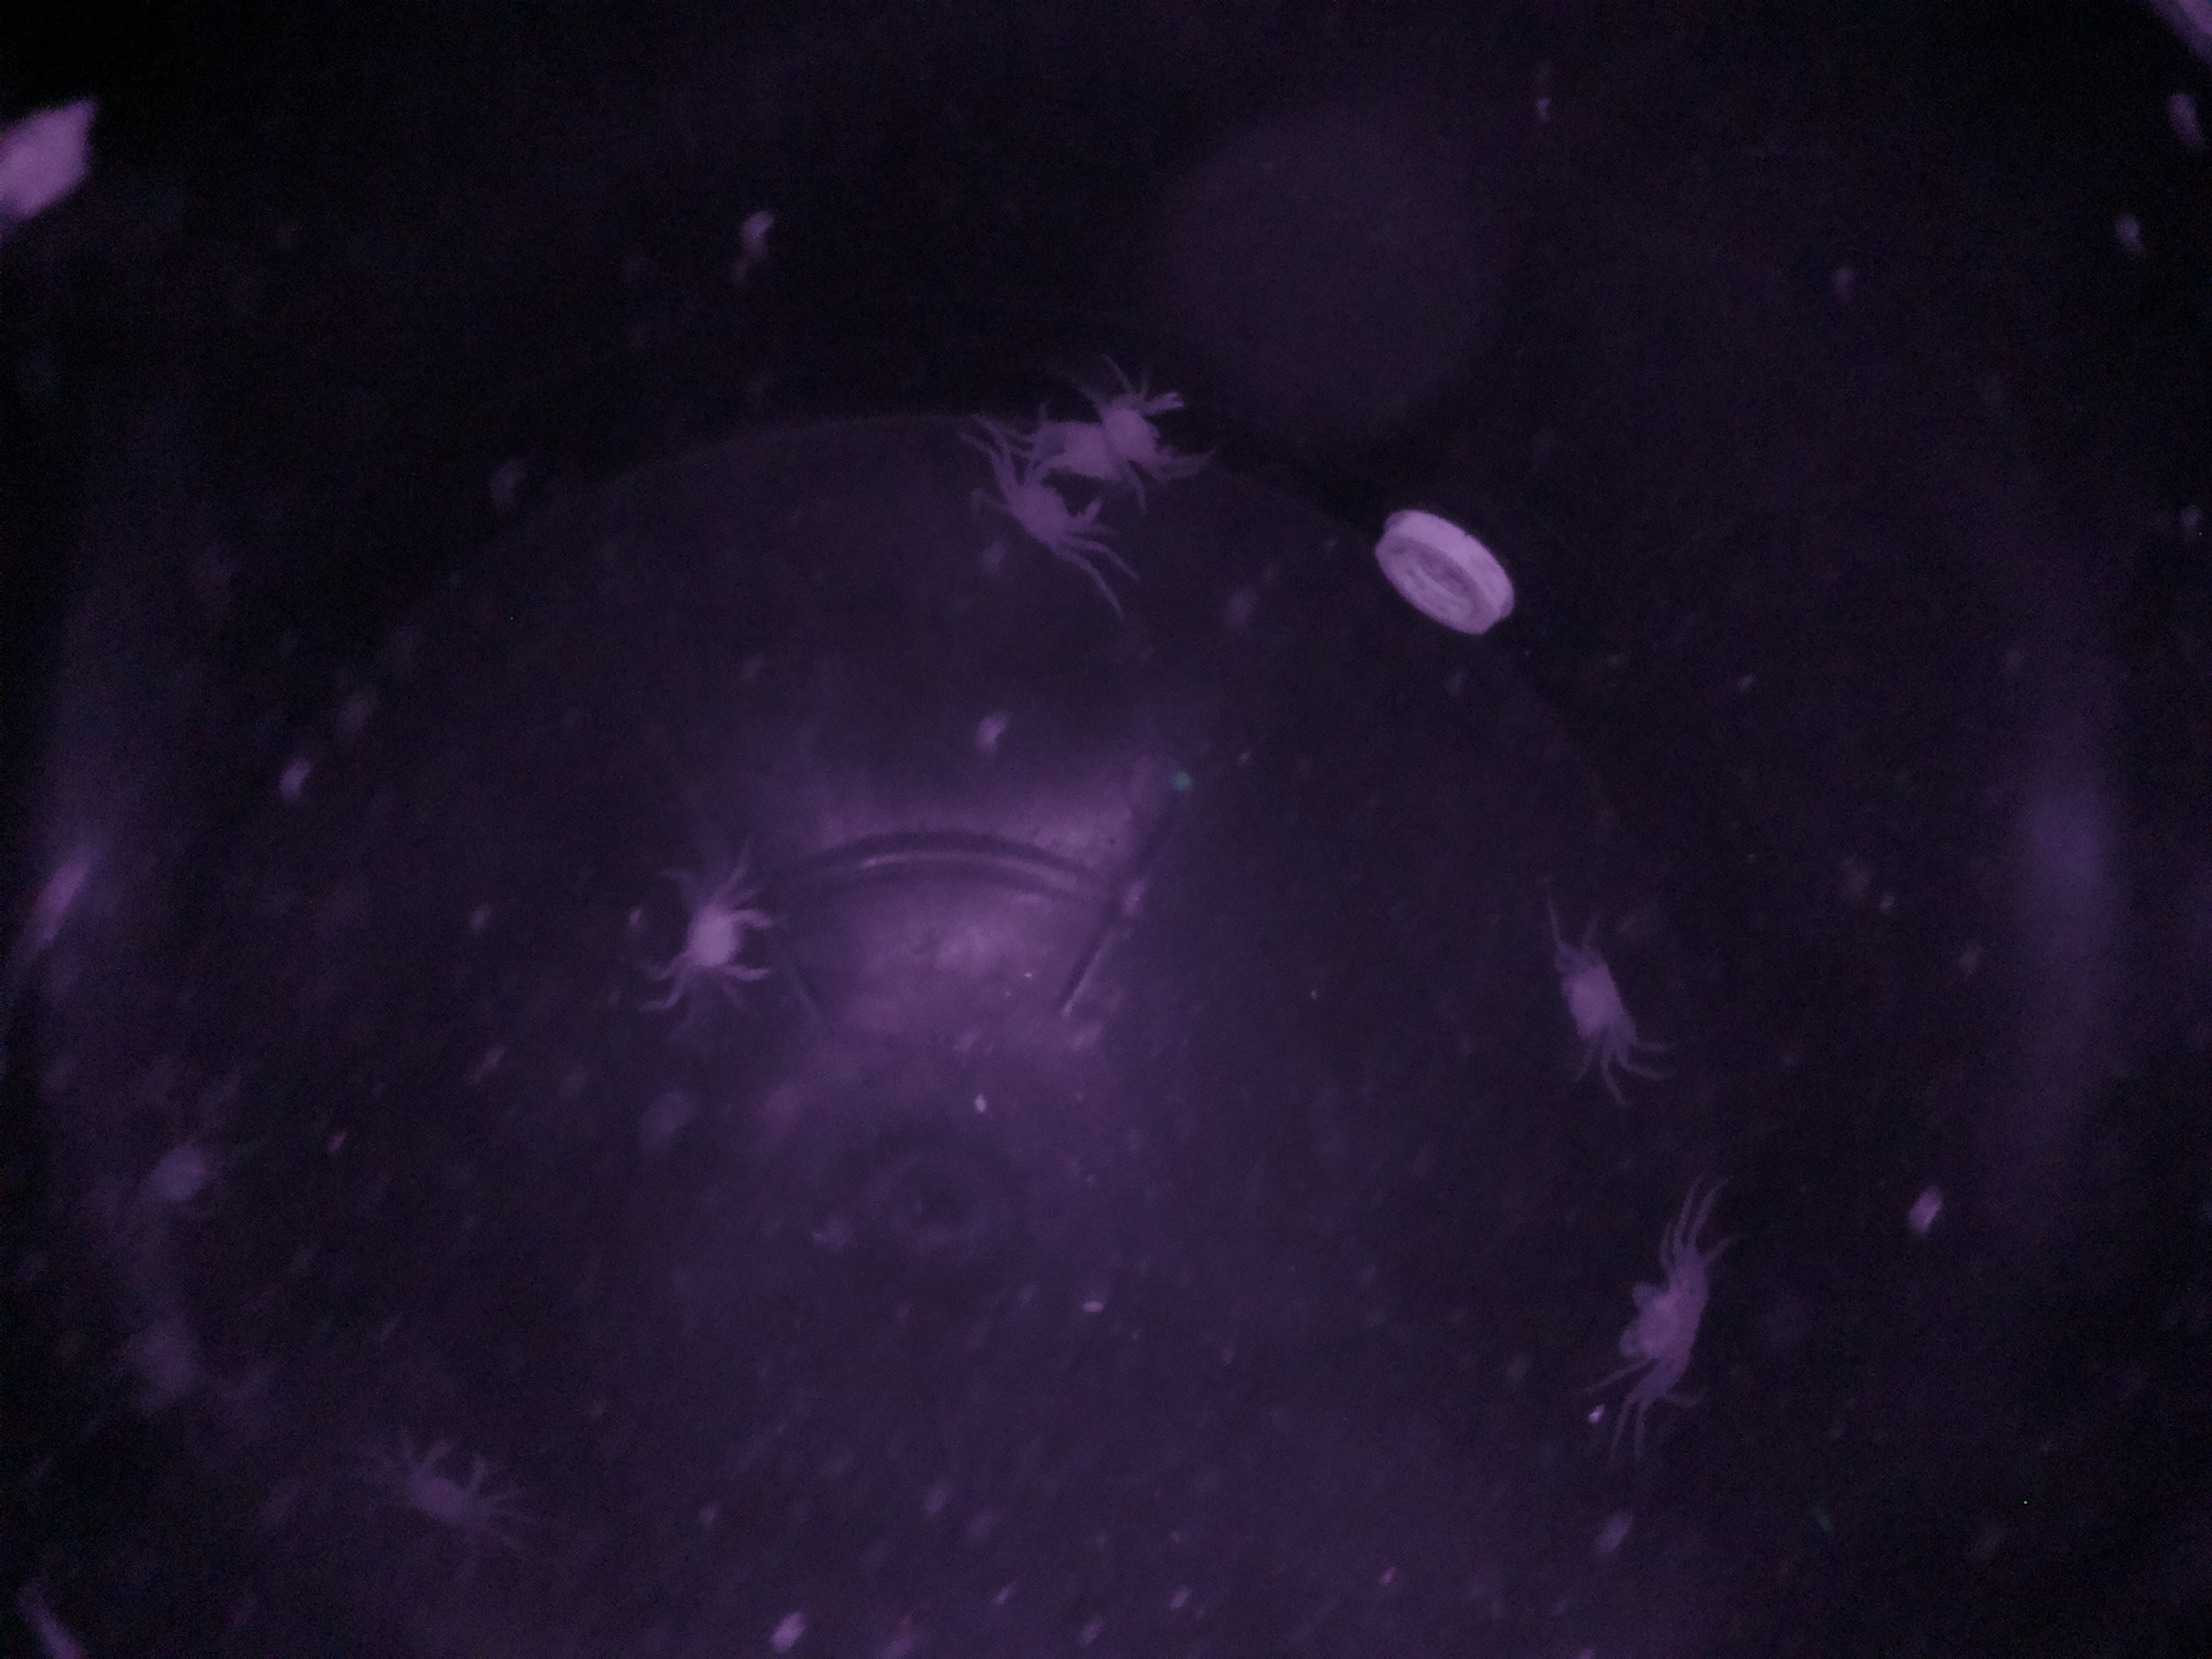Crab: (1601, 1232, 1759, 1431), (664, 871, 796, 1016)
